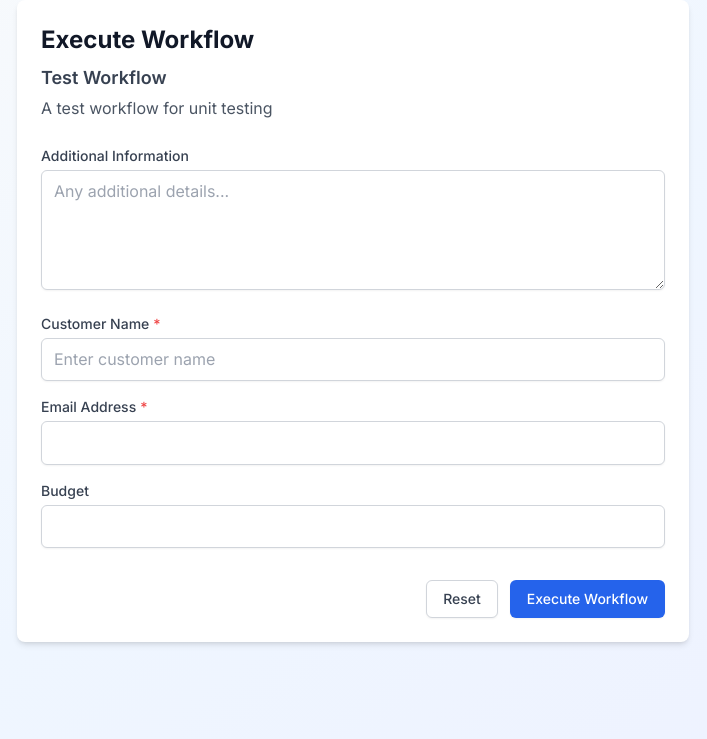
Test: WorkflowExecutionForm › handles API errors gracefully
Type "John Doe" into the field labelled "Customer Name*" at x=353, y=359, box [41,338,665,381]
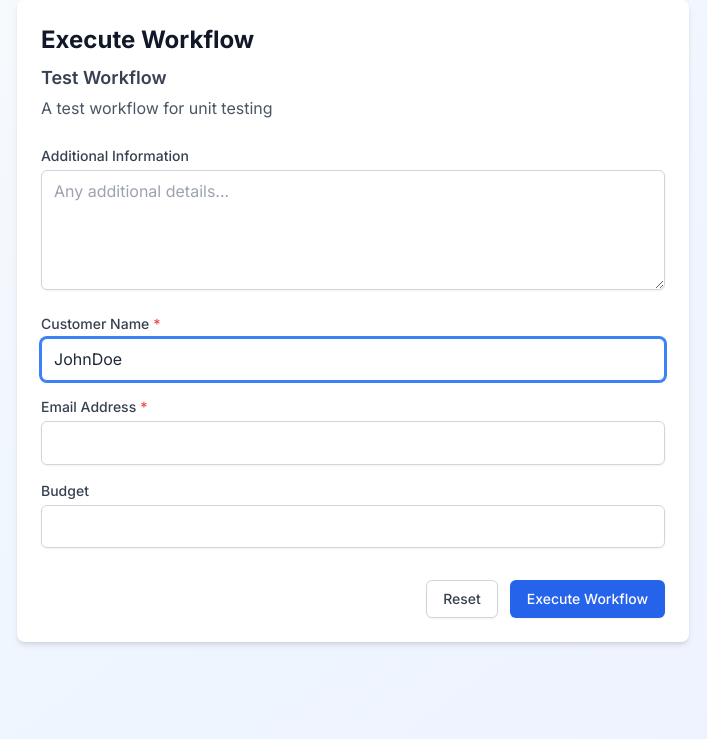
Type "john@example.com" into the field labelled "Email Address*" at x=353, y=443, box [41,421,665,465]
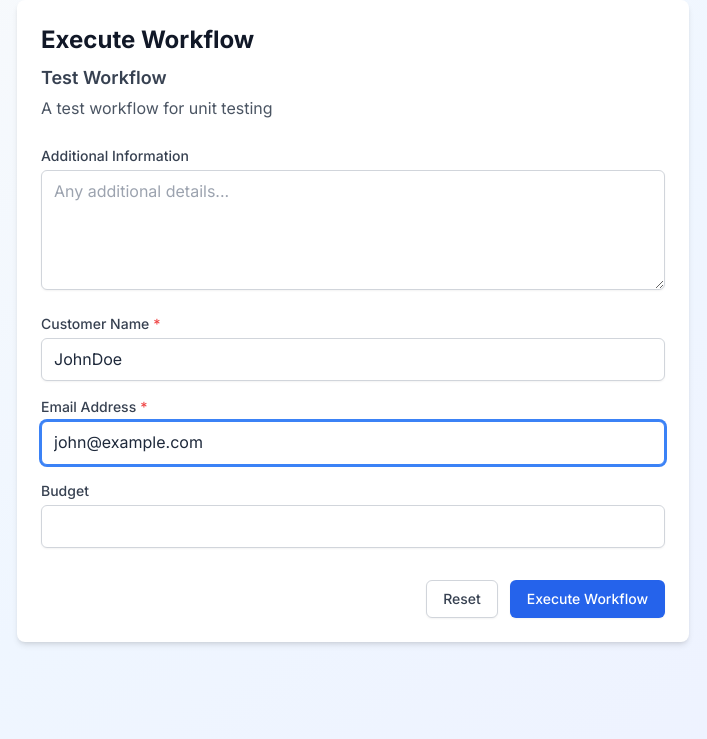
Click the button "Execute Workflow" at x=587, y=599, box [510,580,665,618]
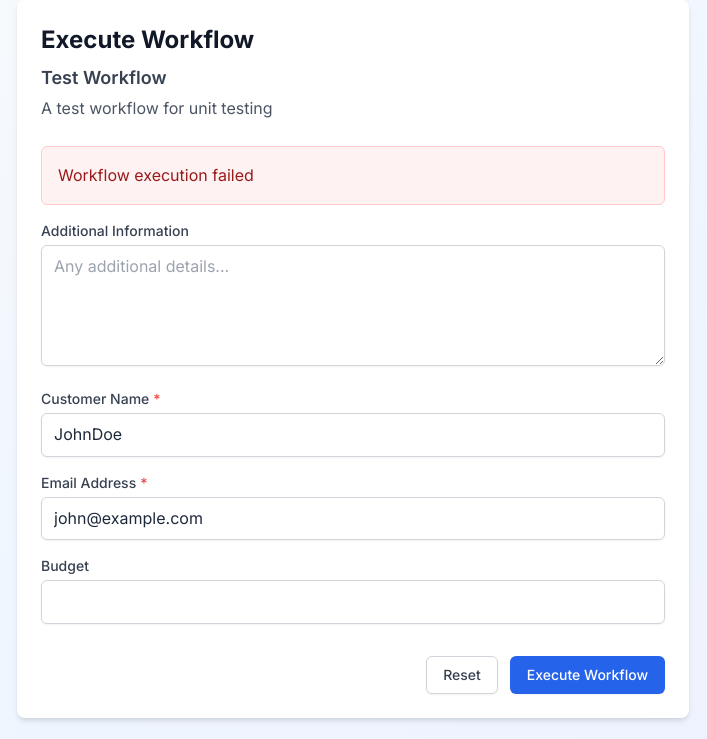
Expected: the text "Workflow execution failed" is shown, [58,165,254,185]
